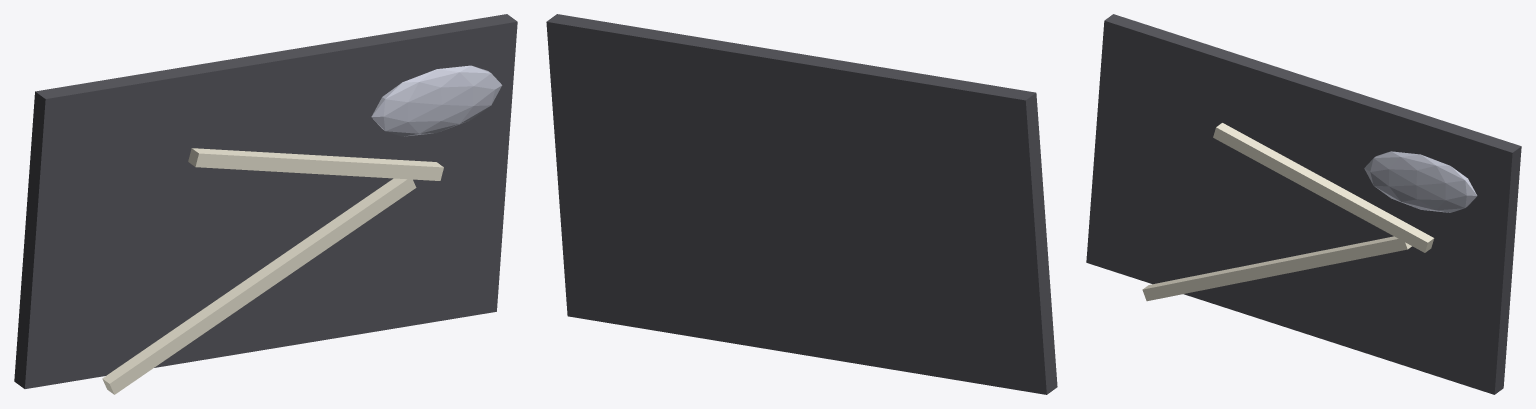
Rendered from 02_weathering_wear_overlay_2.glb.
3 views of the same model, side by side, from view 1: azimuth 30°, elevation 25°; view 2: azimuth 150°, elevation 25°; view 3: azimuth 330°, elevation 25° (orthographic). The views are drawn at different scales.
Visible parts, largest first — view 1: wear_plate, scratch_a, rust_or_moss_spot, scratch_b; view 2: wear_plate; view 3: wear_plate, rust_or_moss_spot, scratch_b, scratch_a.
Boxes of the visible parts, x1=… form: wear_plate: x1=14, y1=14, x2=517, y2=388; scratch_a: x1=102, y1=178, x2=416, y2=394; rust_or_moss_spot: x1=371, y1=65, x2=502, y2=136; scratch_b: x1=188, y1=148, x2=443, y2=180; wear_plate: x1=546, y1=14, x2=1057, y2=394; wear_plate: x1=1086, y1=14, x2=1521, y2=394; rust_or_moss_spot: x1=1364, y1=151, x2=1477, y2=212; scratch_b: x1=1213, y1=123, x2=1434, y2=252; scratch_a: x1=1142, y1=236, x2=1411, y2=301.
Bounding box in the file's own units: 1.35 × 0.8468 × 0.134.
